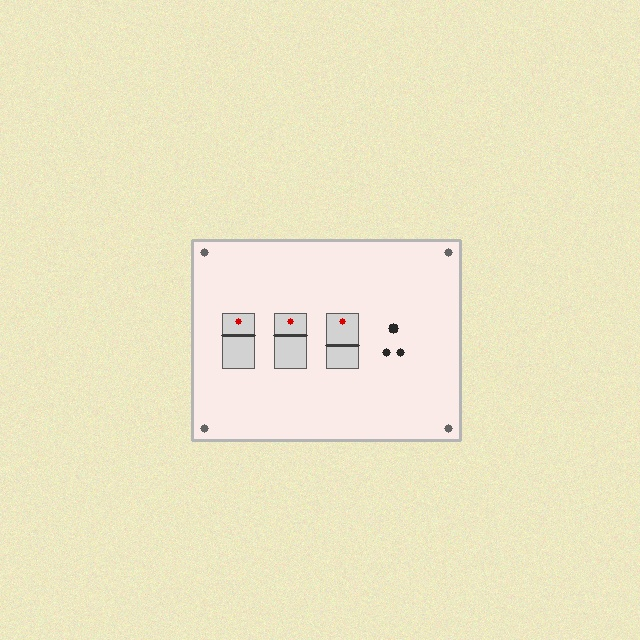switchboard: (192, 240, 460, 440)
